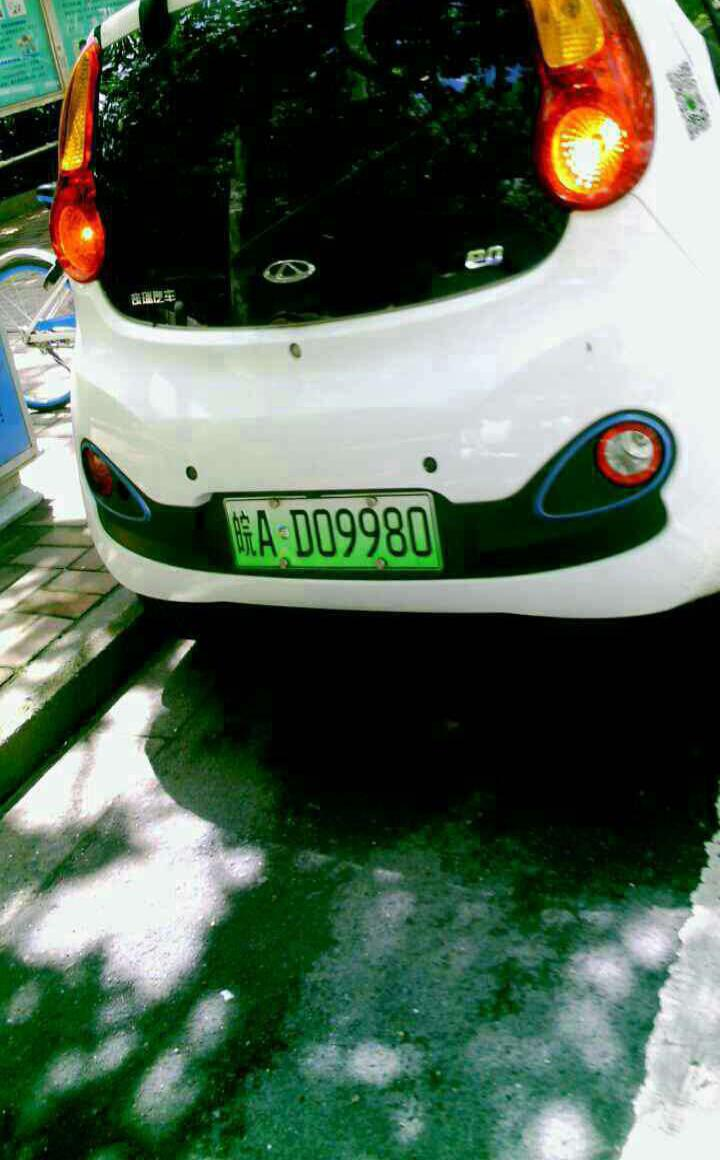car_green: (218, 490, 446, 577)
